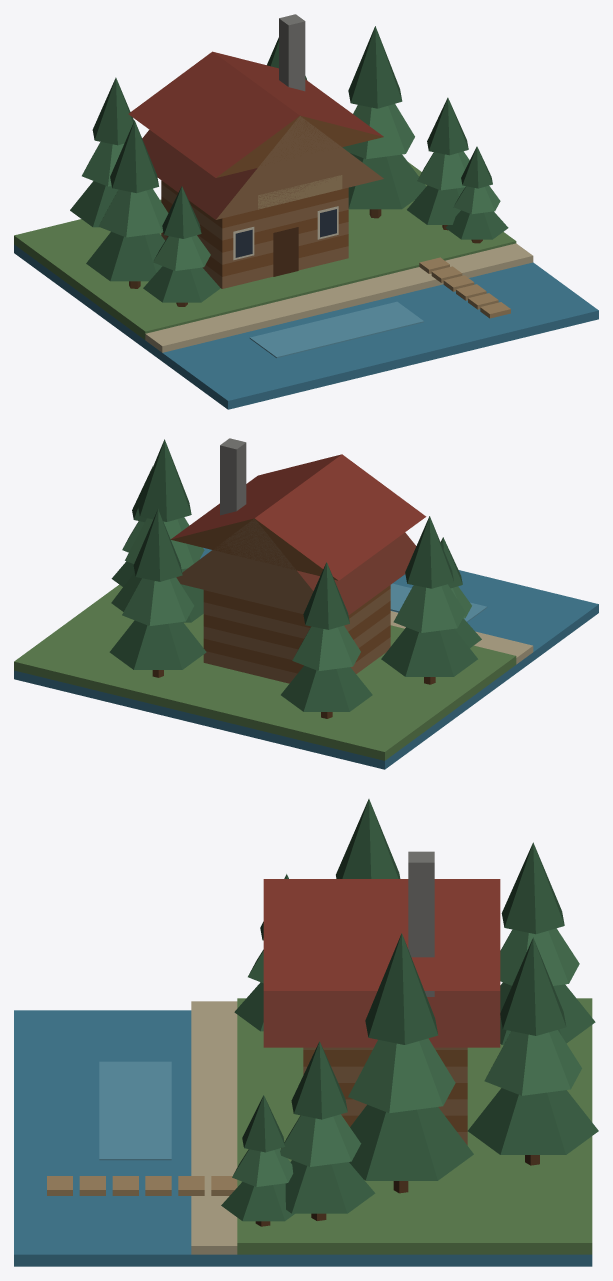
File: chaletBariloche.glb
The picture shows the model from 3 angles, top to bottom: view 1: azimuth 30°, elevation 25°; view 2: azimuth 150°, elevation 25°; view 3: azimuth 270°, elevation 25°; orthographic projection. The views are drawn at different scales.
Visible parts, largest first — view 1: chaletBariloche; view 2: chaletBariloche; view 3: chaletBariloche.
Boxes of the visible parts, box(x1,y1,x2,y2) form: chaletBariloche: box(14, 14, 598, 409); chaletBariloche: box(14, 438, 598, 769); chaletBariloche: box(14, 799, 598, 1266).
Bounding box in the file's own units: 1.76 × 1.03 × 1.78.
